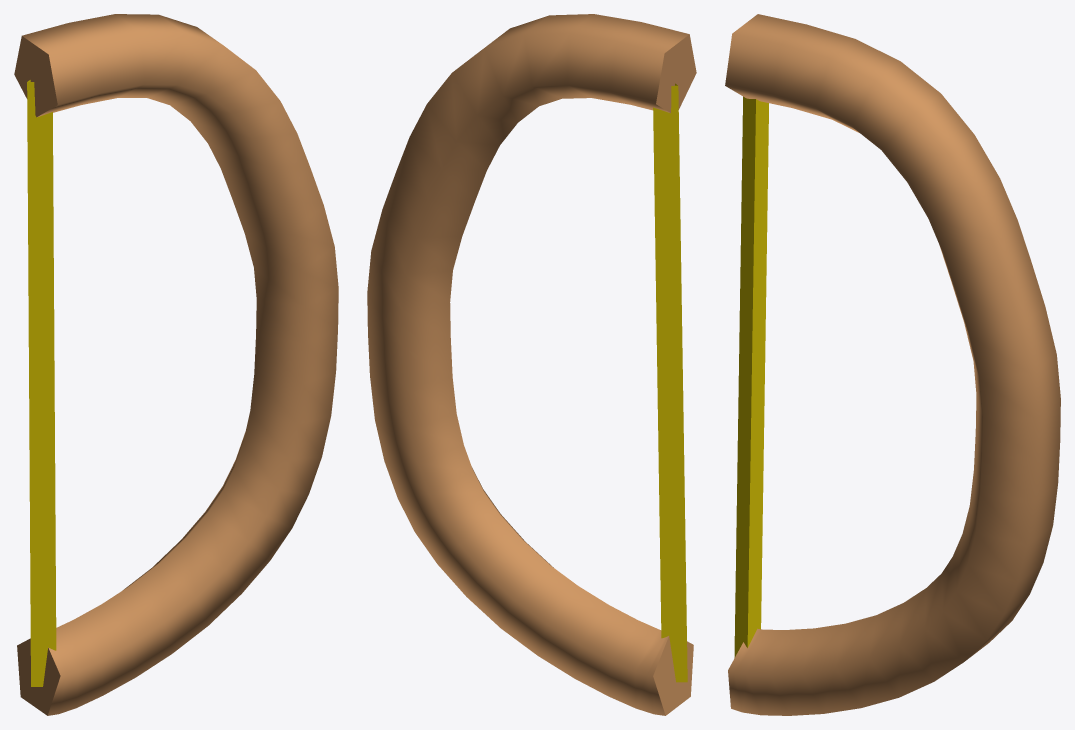
Rendered from Bow.obj.
3 renders of one model, left to right at view 1: azimuth 30°, elevation 25°; view 2: azimuth 150°, elevation 25°; view 3: azimuth 330°, elevation 25°, orthographic. The views are drawn at different scales.
Parts seen in each view (by area): view 1: Tube_1, Tube_2; view 2: Tube_1, Tube_2; view 3: Tube_1, Tube_2.
Part boxes in pixels (left/top/right/bottom): Tube_1: left=14, top=14, right=338, bottom=715; Tube_2: left=27, top=80, right=56, bottom=686; Tube_1: left=367, top=14, right=696, bottom=715; Tube_2: left=653, top=83, right=687, bottom=682; Tube_1: left=725, top=14, right=1060, bottom=715; Tube_2: left=734, top=96, right=768, bottom=657.
Bounding box in the file's own units: 1.18 × 2.48 × 0.3048.
